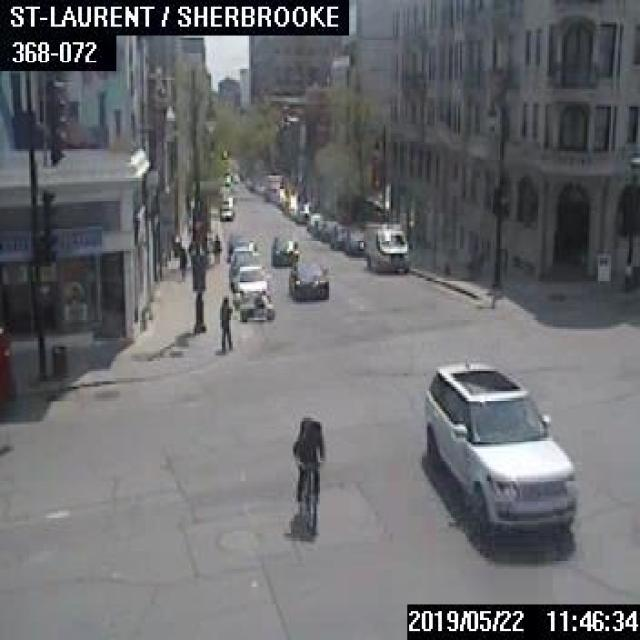cyclist: (289, 416, 324, 534)
pedestrian: (216, 293, 233, 351), (211, 231, 222, 262), (177, 245, 187, 278)
vehicle: (418, 358, 576, 538), (362, 222, 407, 271), (287, 260, 328, 300), (233, 288, 274, 320), (231, 264, 270, 295), (270, 232, 298, 264), (228, 246, 258, 275), (343, 225, 364, 252), (330, 222, 346, 248), (319, 218, 337, 240), (218, 202, 232, 220)
